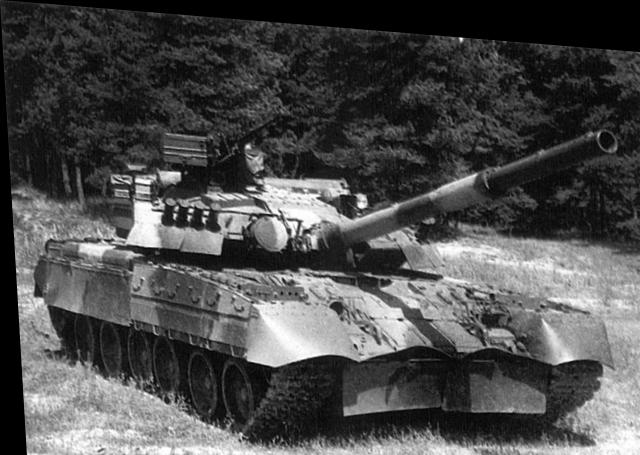tank: (33, 129, 602, 421)
